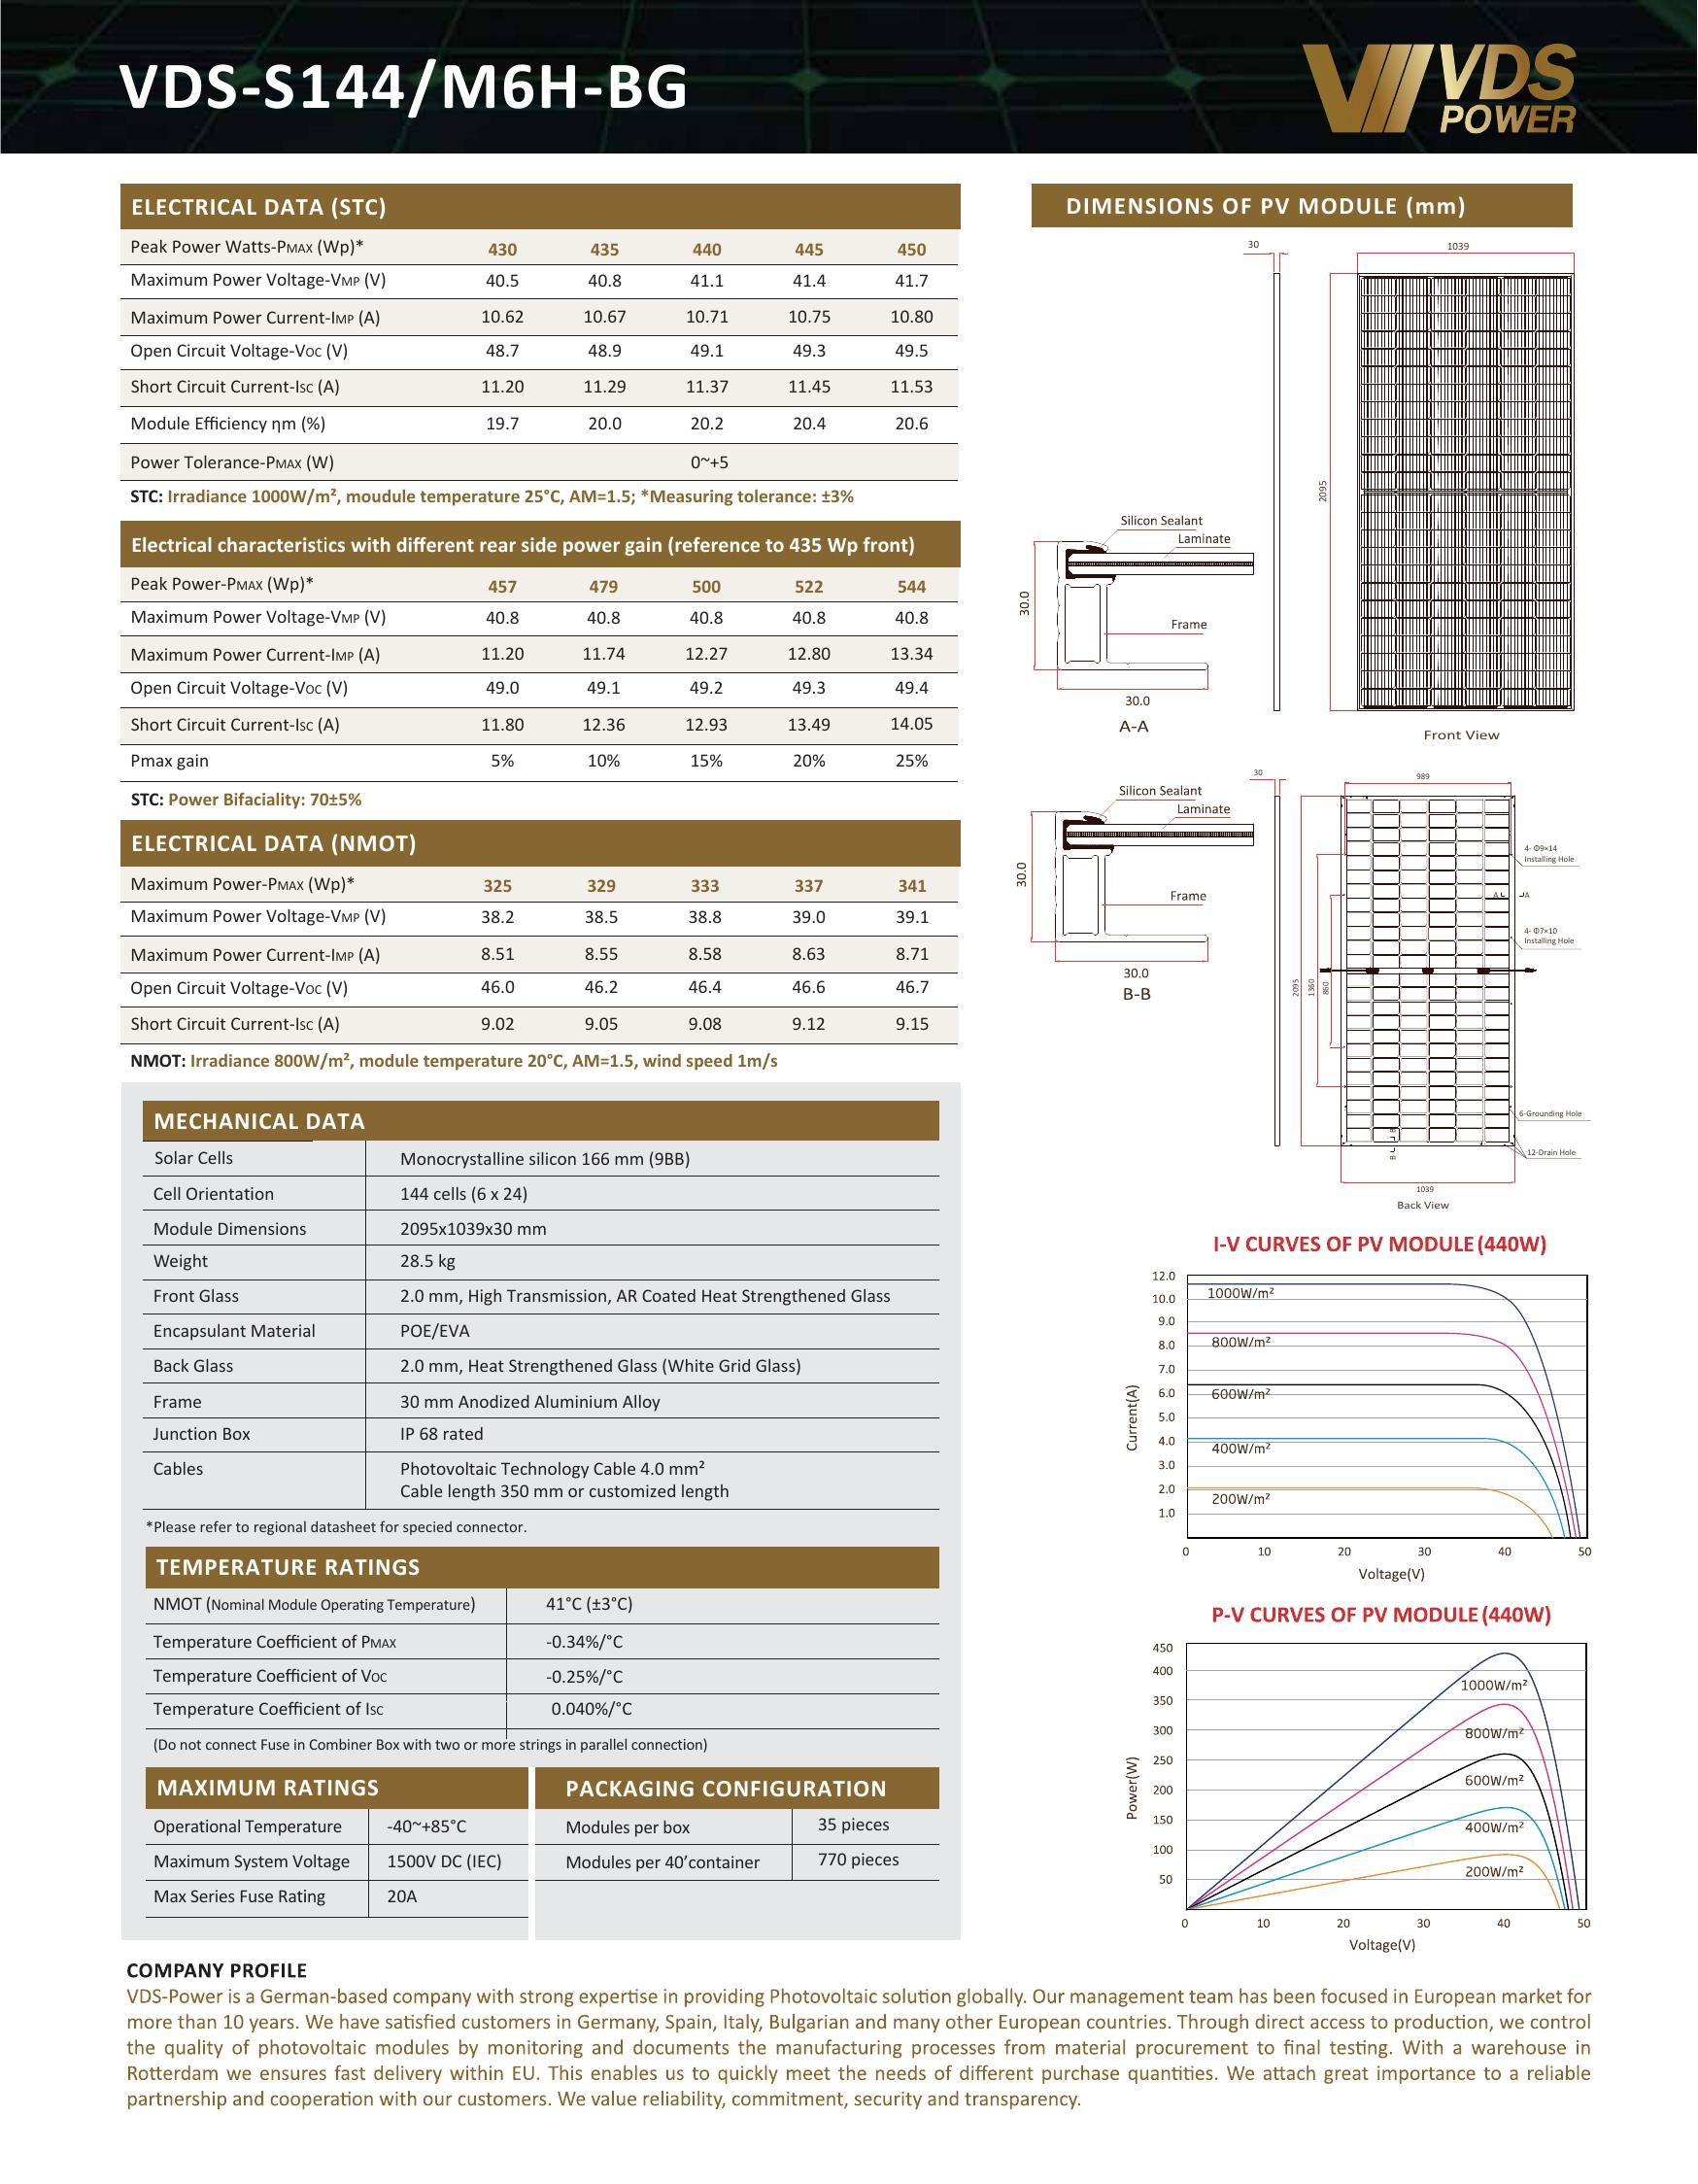table: (136, 1147, 971, 1519), (112, 236, 971, 509), (122, 567, 971, 808), (122, 874, 973, 1080), (147, 1590, 954, 1735), (140, 1812, 532, 1925), (534, 1813, 948, 1895)
